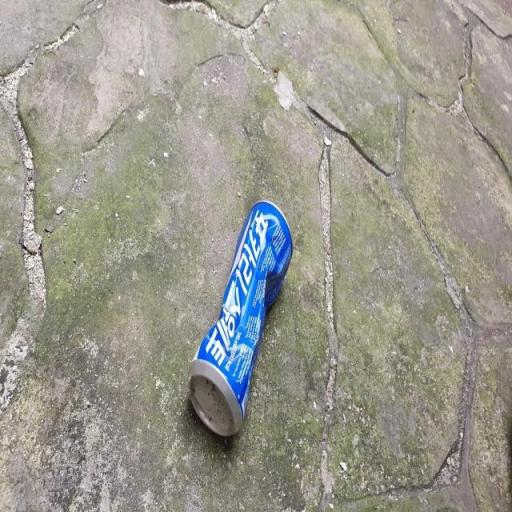metal: (182, 187, 299, 451)
